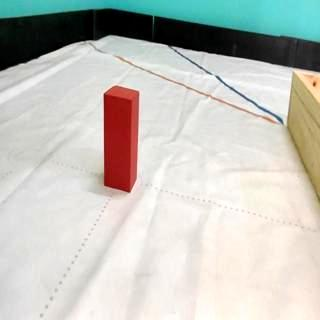redbox: (102, 84, 138, 192)
